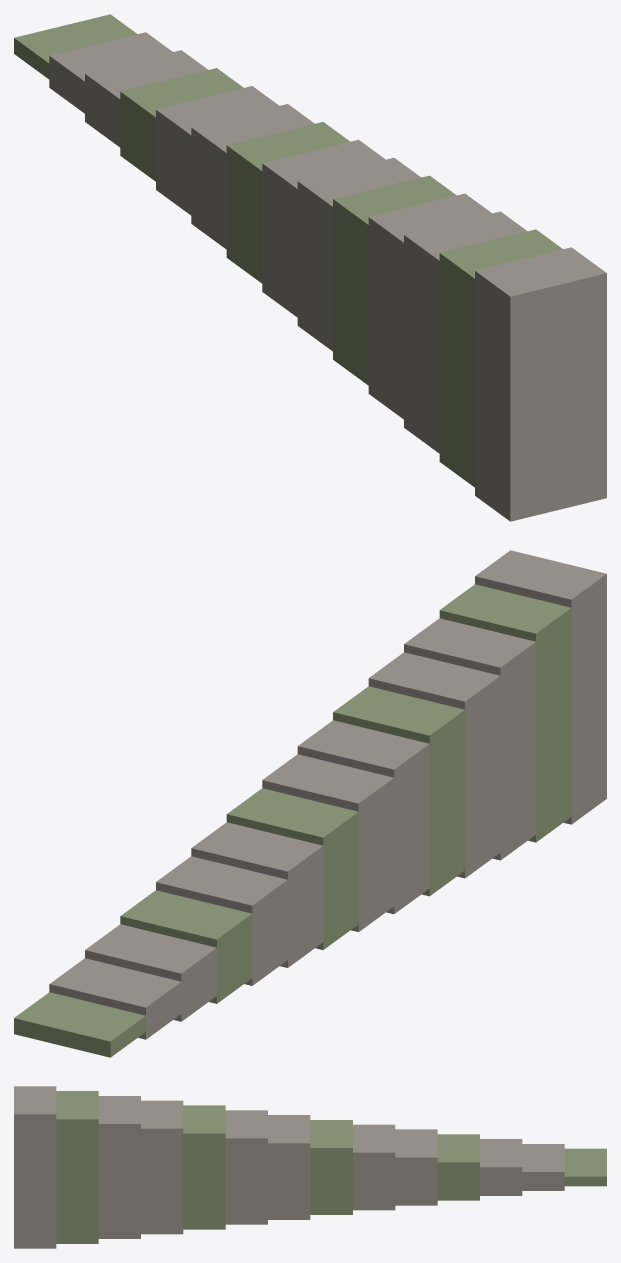
File: env_marutham_steps.fbx
The picture shows the model from 3 angles, top to bottom: view 1: azimuth 30°, elevation 25°; view 2: azimuth 150°, elevation 25°; view 3: azimuth 270°, elevation 25°; orthographic projection. The views are drawn at different scales.
Parts seen in each view (by area): view 1: env_kulaathanku_steps; view 2: env_kulaathanku_steps; view 3: env_kulaathanku_steps.
Part boxes in pixels (box(x1,y1,x2,y2)): env_kulaathanku_steps: box(14, 14, 606, 521); env_kulaathanku_steps: box(14, 550, 606, 1057); env_kulaathanku_steps: box(14, 1086, 606, 1248).
Bounding box in the file's own units: 110 × 245 × 980.
